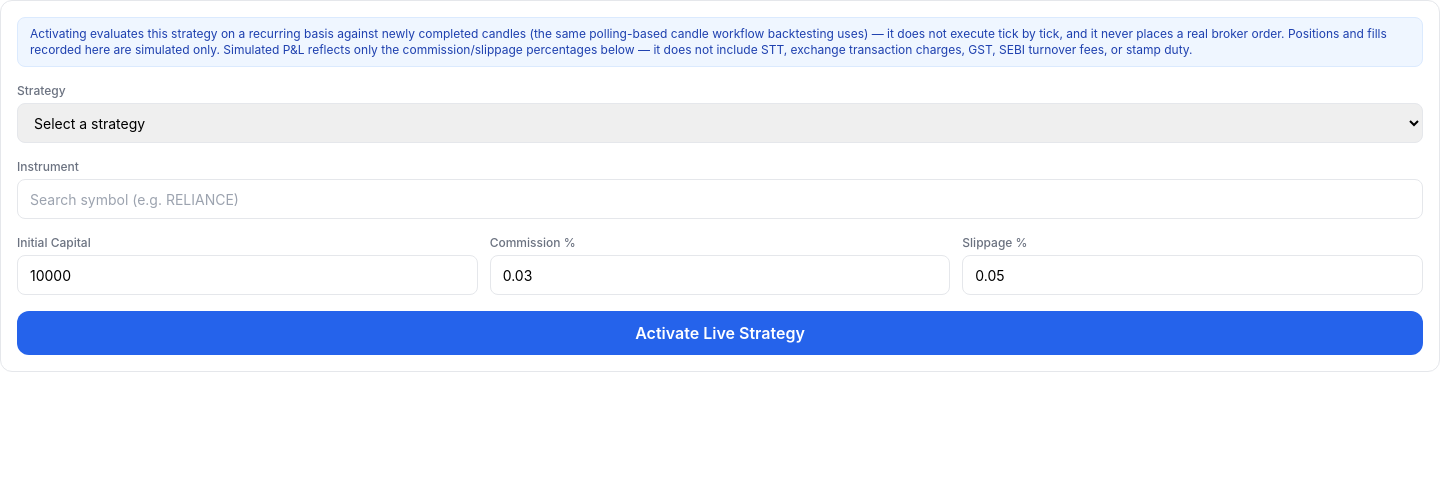
Scenario: LiveActivationForm › selecting a strategy loads its versions and defaults to the current version, showing its locked timeframe
Select "RSI Mean Reversion" in the dropdown showing "Select a strategy": [720, 123] box [17, 103, 1423, 143]
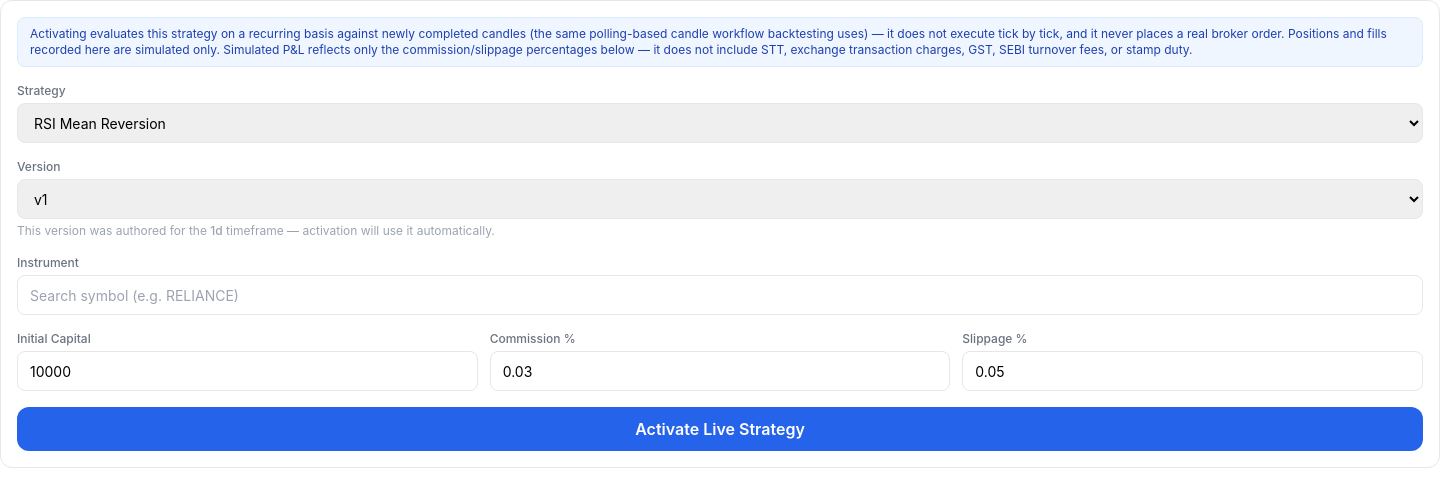
Now the text "authored for the" is shown, box [17, 223, 210, 238]
Now the text "1d" is shown, box [210, 223, 223, 238]
